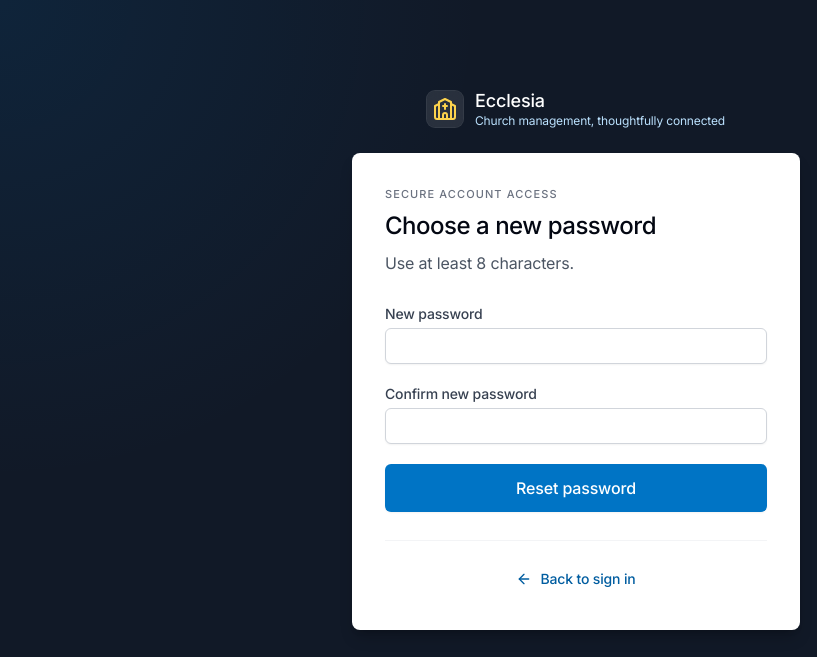
Scenario: ResetPasswordPage › blocks submit when password is too short
The width and height of the screenshot is (817, 657).
Type "short" into the password field labelled "New password" at (576, 346), box [385,328,767,364]
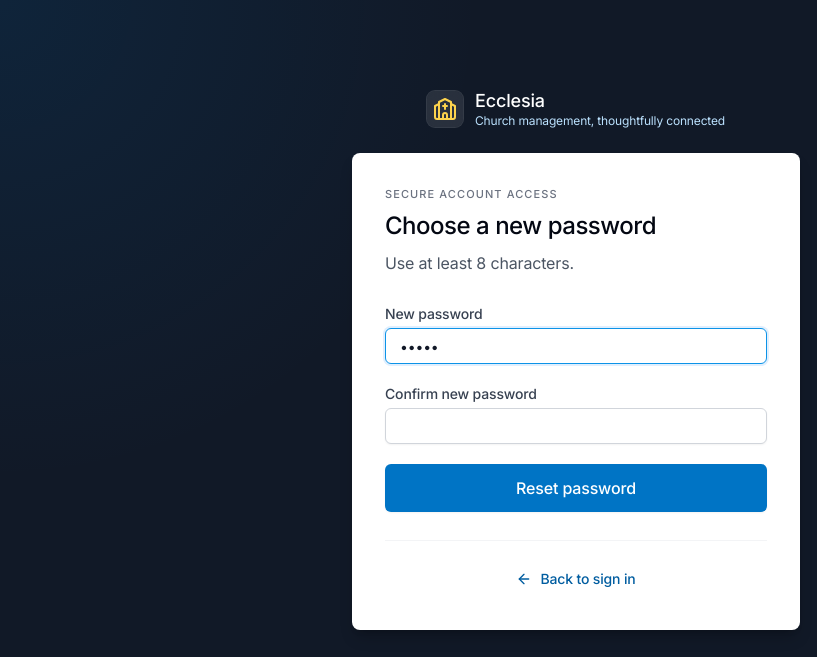
Type "short" into the password field labelled "Confirm new password" at (576, 426), box [385,408,767,444]
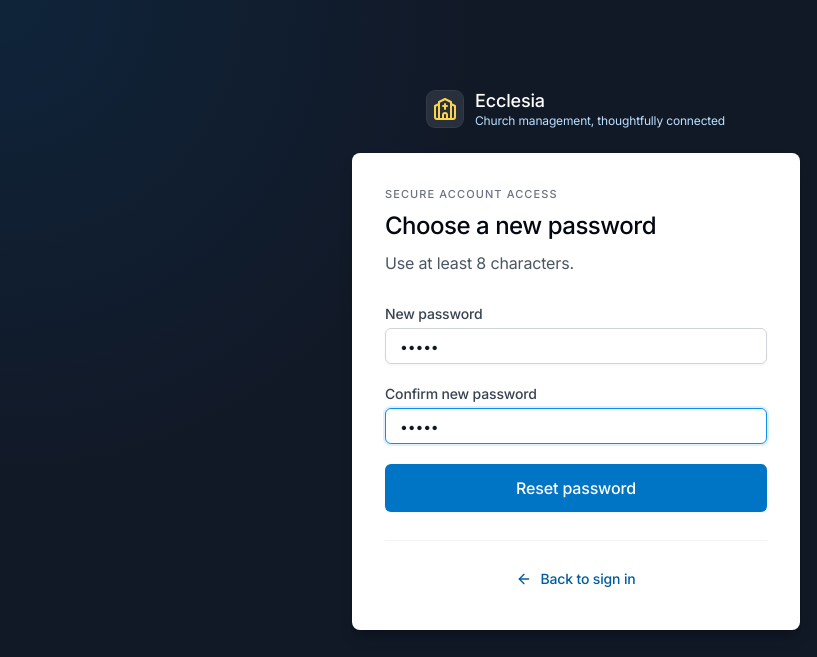
Click the button "Reset password" at (576, 488), box [385,464,767,512]
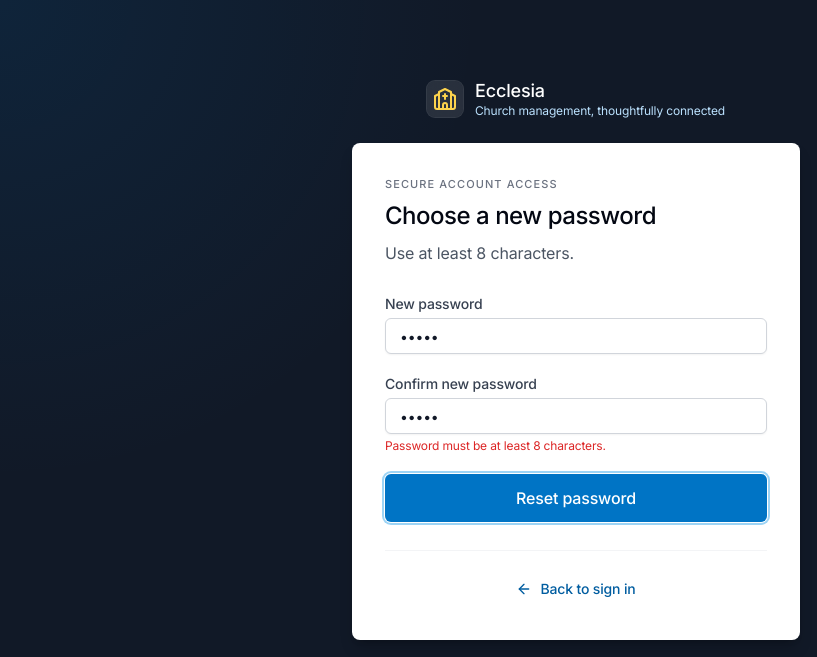
Now the message shows "at least 8 characters", box [385,438,606,453]
